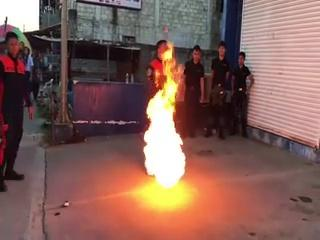Fire: (141, 49, 185, 190)
